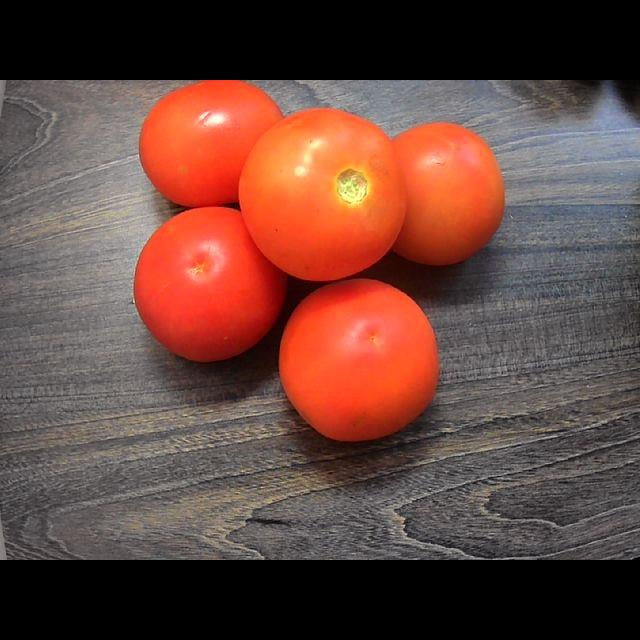tomate: (240, 109, 405, 280), (279, 279, 437, 440), (134, 207, 287, 361), (140, 80, 283, 207), (393, 123, 504, 265)
